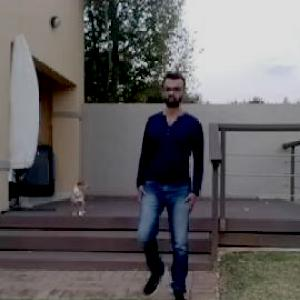follow: (147, 74, 202, 296)
